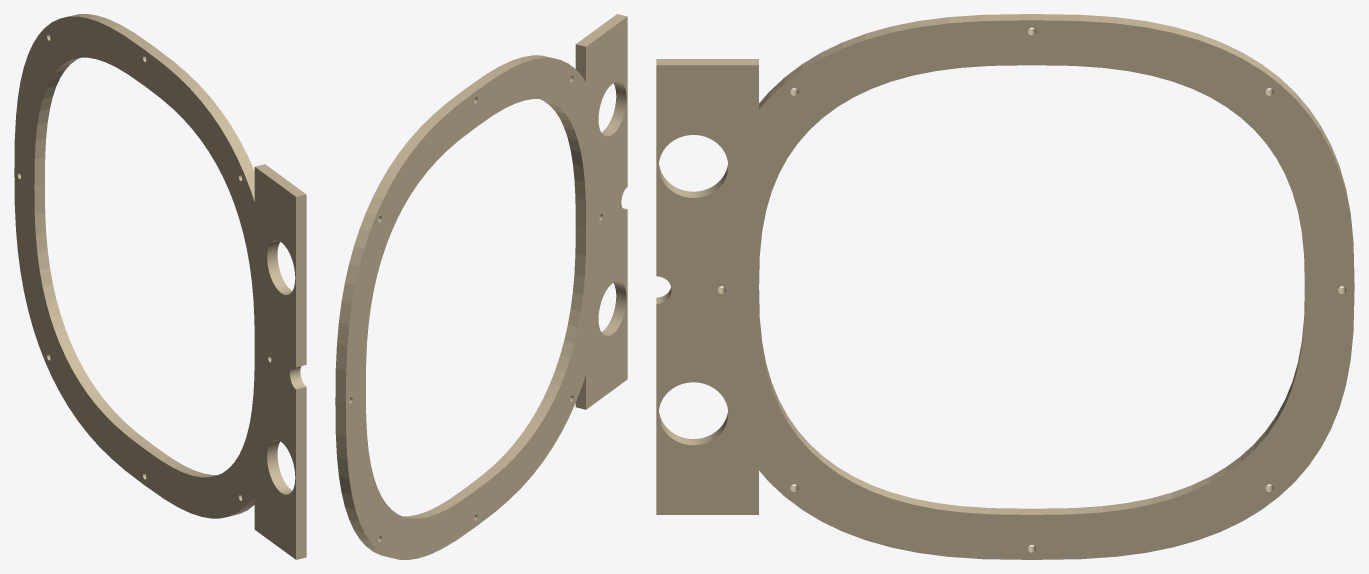
The picture shows the model from 3 angles, left to right: view 1: azimuth 30°, elevation 25°; view 2: azimuth 150°, elevation 25°; view 3: azimuth 270°, elevation 25°; orthographic projection. The views are drawn at different scales.
Parts seen in each view (by area): view 1: geometry_0; view 2: geometry_0; view 3: geometry_0.
Boxes of the visible parts, box(x1,y1,x2,y2) form: geometry_0: box(14, 14, 306, 559); geometry_0: box(335, 14, 627, 559); geometry_0: box(656, 14, 1354, 559).
Bounding box in the file's own units: 6 × 240 × 281.
